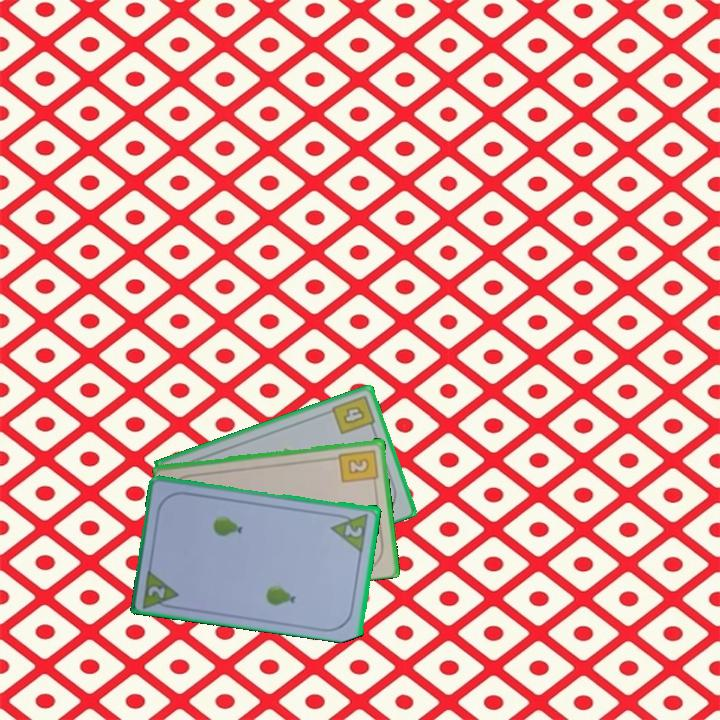2b: (336, 446, 381, 488)
2p: (139, 565, 183, 612), (328, 509, 371, 553)
4b: (328, 391, 378, 437)
